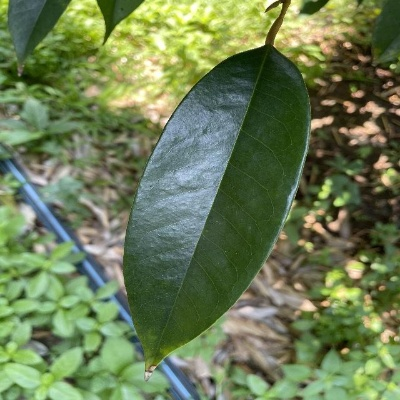Leaf_Healthy: (122, 1, 314, 381)
